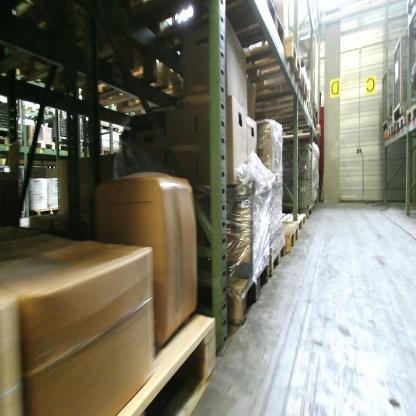pallet: (3, 19, 148, 107), (136, 1, 285, 85), (105, 307, 218, 415), (85, 62, 192, 140), (187, 262, 269, 328), (224, 31, 302, 80), (249, 71, 310, 102), (256, 92, 310, 115), (267, 100, 316, 123), (262, 238, 286, 284), (270, 210, 308, 237), (272, 123, 322, 139), (275, 223, 297, 255), (26, 135, 57, 154), (30, 206, 62, 219), (55, 141, 85, 154), (0, 137, 24, 150), (405, 100, 415, 129), (397, 114, 407, 132), (389, 121, 398, 140), (381, 125, 389, 142), (406, 1, 415, 15), (313, 110, 318, 129)
stillage: (276, 139, 313, 222), (1, 160, 28, 221), (0, 89, 26, 144), (392, 30, 407, 124), (378, 64, 394, 129), (407, 5, 415, 108), (56, 104, 74, 149), (73, 107, 88, 145)
